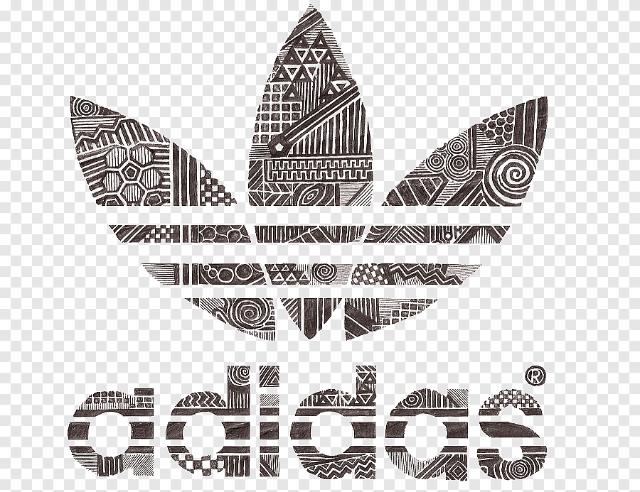Adidas: (52, 3, 586, 487), (60, 1, 572, 350), (57, 348, 569, 490)
